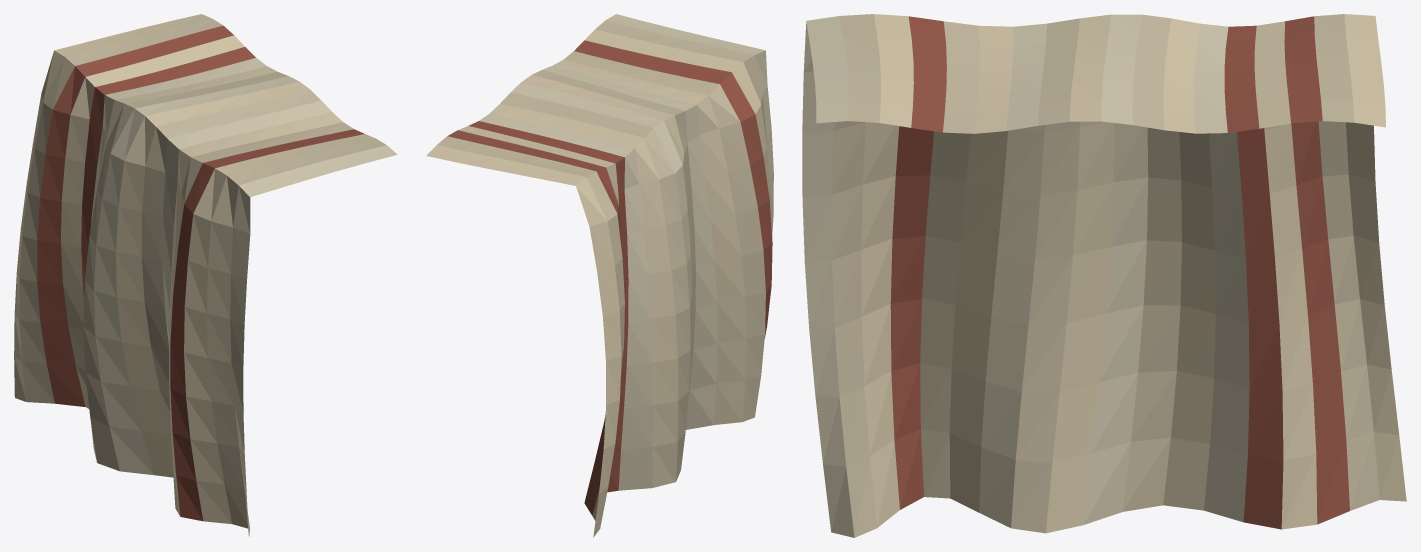
The model's file is fishers_cloth.glb.
The picture shows the model from 3 angles, left to right: view 1: azimuth 30°, elevation 25°; view 2: azimuth 150°, elevation 25°; view 3: azimuth 270°, elevation 25°; orthographic projection. The views are drawn at different scales.
Parts seen in each view (by area): view 1: fishers_cloth; view 2: fishers_cloth; view 3: fishers_cloth.
Part boxes in pixels (bbox=[...]): fishers_cloth: bbox=[14, 14, 397, 536]; fishers_cloth: bbox=[426, 14, 773, 537]; fishers_cloth: bbox=[802, 14, 1406, 537].
Bounding box in the file's own units: 0.27 × 0.477 × 0.5092.
